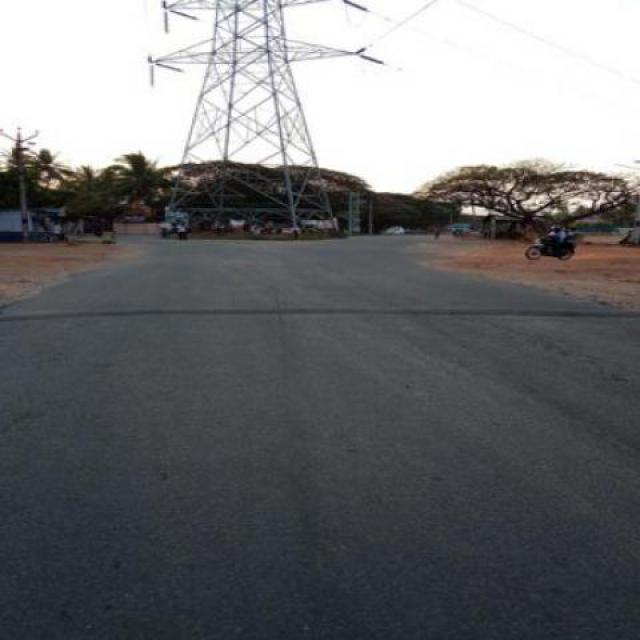Unmarked Bump: (0, 304, 639, 328)
